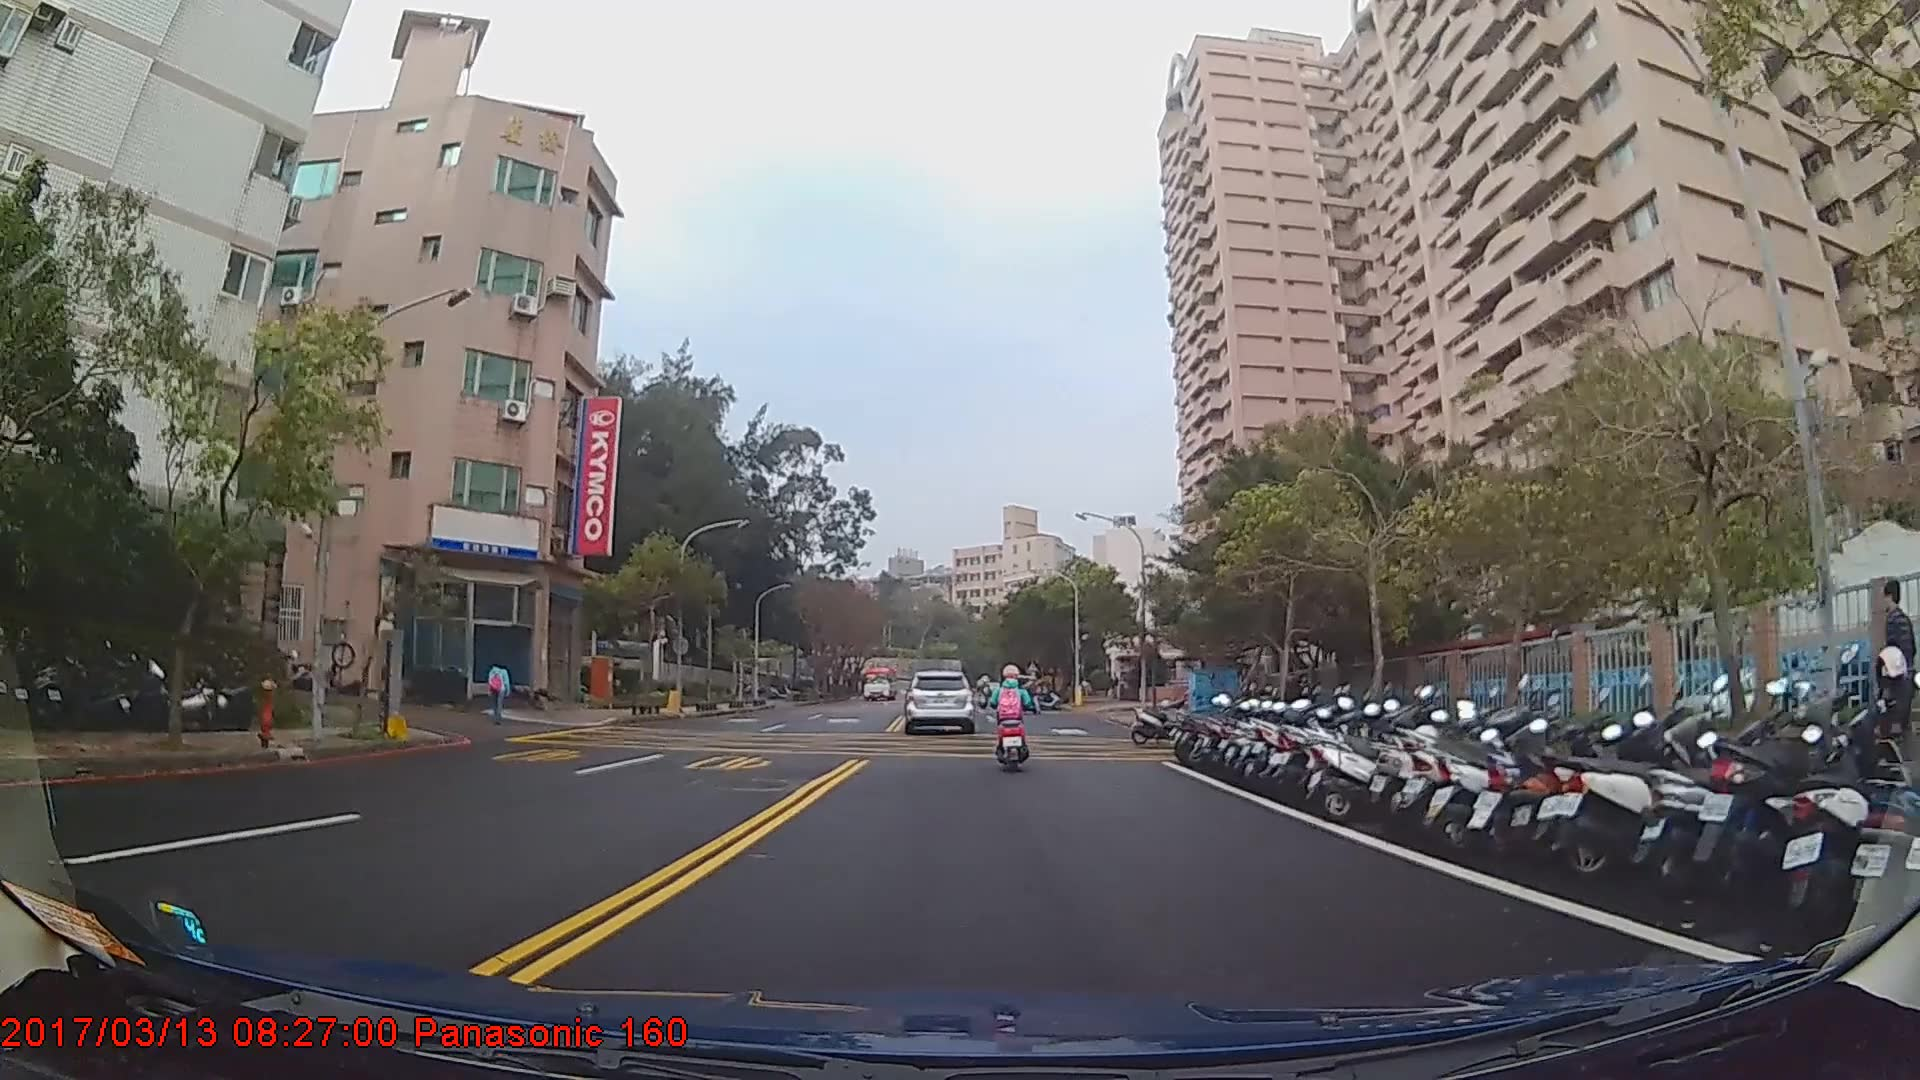pedestrian: (1874, 575, 1920, 772), (487, 656, 512, 727)
rider: (984, 663, 1034, 783)
vehicle: (904, 668, 974, 734), (857, 665, 897, 702)
